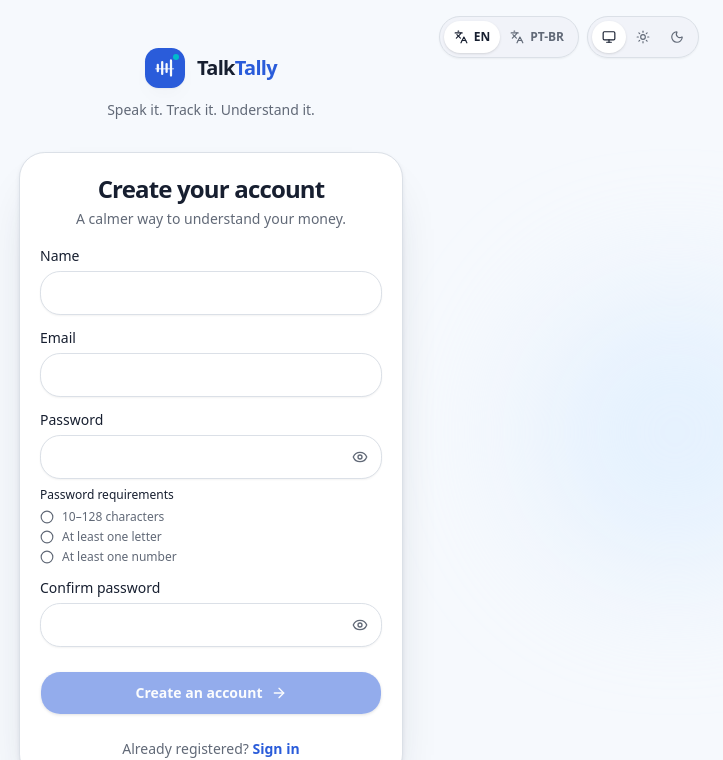
Test: RegisterPage › toggles password visibility accessibly for password and confirmation
Click the button named "Show password". click: (360, 457)
box: [342,439,378,475]
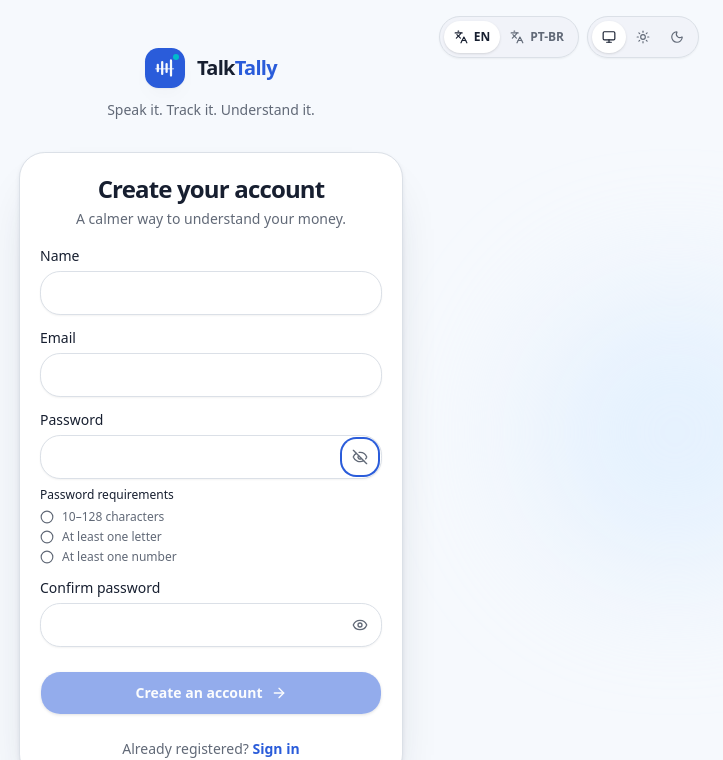
Click the button named "Show confirm password". click: (360, 625)
box: [342,607,378,643]
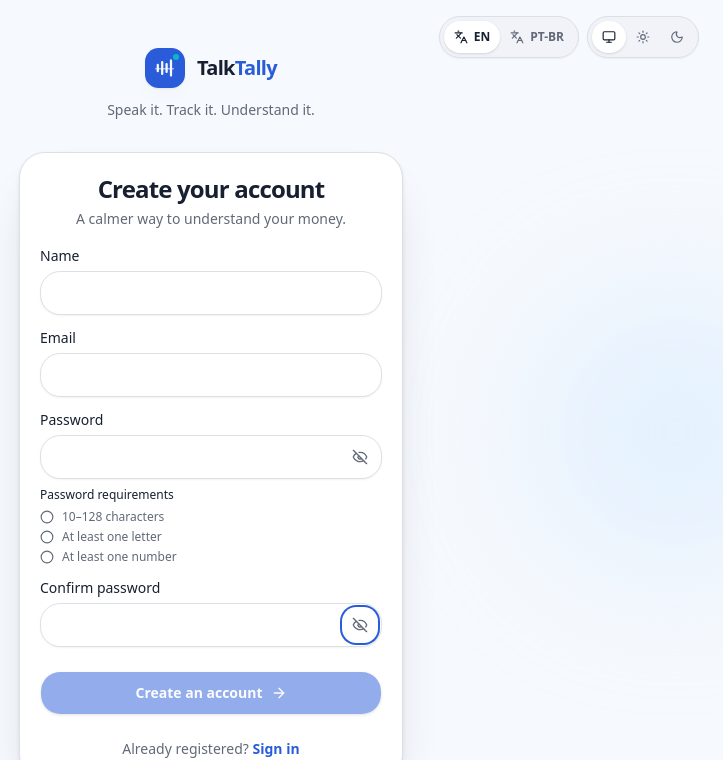
expect the button named "Hide password" is shown: met, box [342,439,378,475]
expect the button named "Hide confirm password" is shown: met, box [342,607,378,643]
